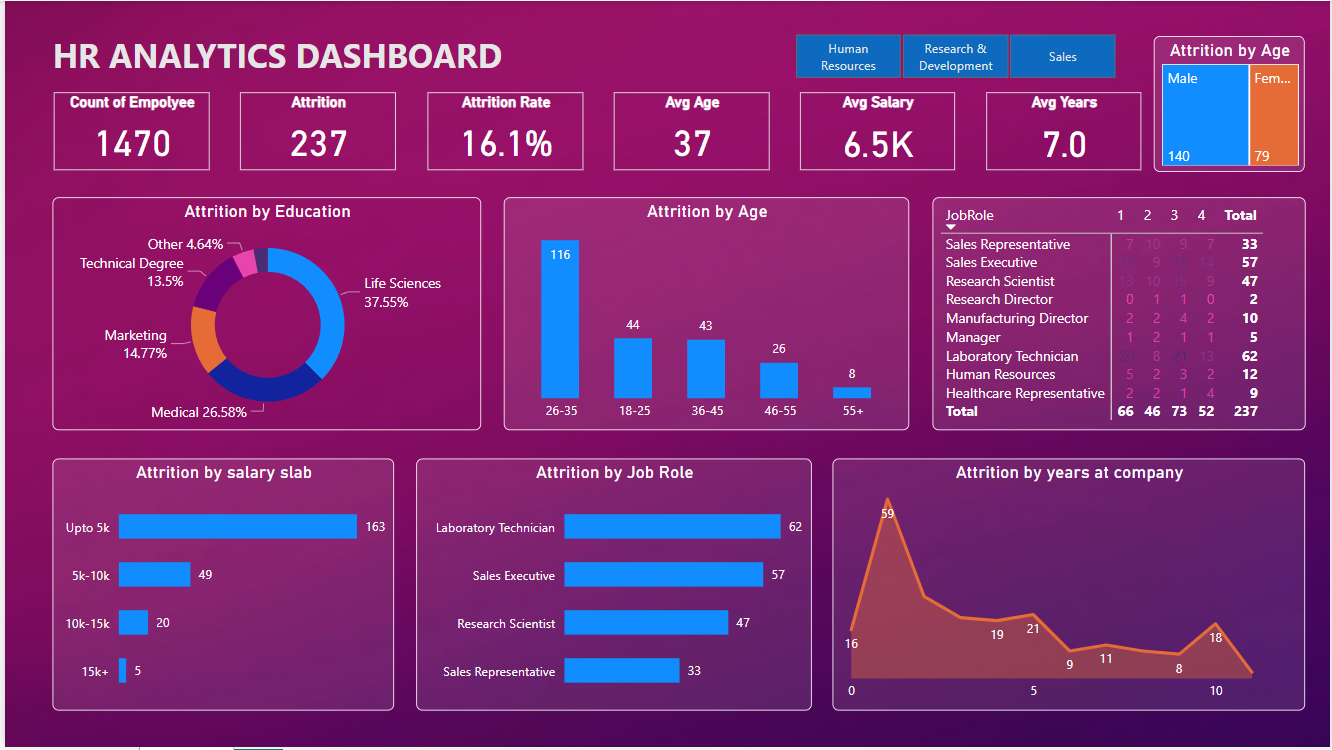

What the dashboard file says about the page in this screenshot:
{"tool":"powerbi","page":{"name":"Page 1","canvas":[1280,720],"ordinal":0},"visuals":[{"type":"card","title":"Count of Empolyee","fields":{"Values":["Count(HR_Analytics (2).EmpID)"]},"box":[47.3,87.6,150.5,75.2],"z":0},{"type":"card","title":"Attrition","fields":{"Values":["Sum(HR_Analytics (2).AttritionCount)"]},"box":[227.3,87.6,150.5,75.2],"z":1000},{"type":"card","title":"Attrition Rate","fields":{"Values":["HR_Analytics (2).AttritionRate"]},"box":[407.3,87.6,150.5,75.2],"z":2000},{"type":"card","title":"Avg Age","fields":{"Values":["Avg(HR_Analytics (2).Age)"]},"box":[587.4,87.6,150.5,75.2],"z":3000},{"type":"card","title":"Avg Salary","fields":{"Values":["Avg(HR_Analytics (2).MonthlyIncome)"]},"box":[767.4,87.5,149.5,75.4],"z":4000},{"type":"card","title":"Avg Years","fields":{"Values":["Avg(HR_Analytics (2).YearsAtCompany)"]},"box":[946.5,87.5,149.5,75.4],"z":5000},{"type":"donutChart","title":"Attrition by Education","fields":{"Category":["HR_Analytics (2).EducationField"],"Y":["Sum(HR_Analytics (2).AttritionCount)"]},"box":[46.2,189.7,413.4,224.9],"z":6000},{"type":"columnChart","title":"Attrition by Age","fields":{"Category":["HR_Analytics (2).AgeGroup"],"Y":["Sum(HR_Analytics (2).AttritionCount)"]},"box":[481.5,189.7,391.5,224.9],"z":7000},{"type":"pivotTable","fields":{"Rows":["HR_Analytics (2).JobRole"],"Columns":["HR_Analytics (2).JobSatisfaction"],"Values":["Sum(HR_Analytics (2).AttritionCount)"]},"box":[894.8,189.7,359.9,224.9],"z":8000},{"type":"clusteredBarChart","title":"Attrition by salary slab","fields":{"Category":["HR_Analytics (2).SalarySlab"],"Y":["Sum(HR_Analytics (2).AttritionCount)"]},"box":[46.2,441.3,329.5,243.2],"z":9000},{"type":"clusteredBarChart","title":"Attrition by Job Role","fields":{"Category":["HR_Analytics (2).JobRole"],"Y":["Sum(HR_Analytics (2).AttritionCount)"]},"box":[396.4,441.3,381.8,243.2],"z":10000},{"type":"stackedAreaChart","title":"Attrition by years at company","fields":{"Category":["HR_Analytics (2).YearsAtCompany"],"Y":["Sum(HR_Analytics (2).AttritionCount)"]},"box":[798.8,441.3,455.9,243.2],"z":11000},{"type":"treemap","title":"Attrition by Age","fields":{"Group":["HR_Analytics (2).Gender"],"Values":["Sum(HR_Analytics (2).AttritionCount)"]},"box":[1108.8,34,145.9,131.3],"z":12000},{"type":"slicer","fields":{"Values":["HR_Analytics (2).Department"]},"box":[736.8,25.5,358.7,54.7],"z":13000},{"type":"textbox","box":[41.3,25.5,579.9,55.9],"z":13001}]}

Visuals, with their boxes in screenshot pixels (x1, y1, x2, y2), scaled from the page's 1280x720 canvas onto the 1332x750 screenshot:
"Count of Empolyee" card: bbox=(49, 91, 206, 170)
"Attrition" card: bbox=(237, 91, 393, 170)
"Attrition Rate" card: bbox=(424, 91, 580, 170)
"Avg Age" card: bbox=(611, 91, 768, 170)
"Avg Salary" card: bbox=(799, 91, 954, 170)
"Avg Years" card: bbox=(985, 91, 1141, 170)
"Attrition by Education" donutChart: bbox=(48, 198, 478, 432)
"Attrition by Age" columnChart: bbox=(501, 198, 908, 432)
pivotTable - HR_Analytics (2).JobRole x HR_Analytics (2).JobSatisfaction: bbox=(931, 198, 1306, 432)
"Attrition by salary slab" clusteredBarChart: bbox=(48, 460, 391, 713)
"Attrition by Job Role" clusteredBarChart: bbox=(413, 460, 810, 713)
"Attrition by years at company" stackedAreaChart: bbox=(831, 460, 1306, 713)
"Attrition by Age" treemap: bbox=(1154, 35, 1306, 172)
slicer - HR_Analytics (2).Department: bbox=(767, 27, 1140, 84)
textbox: bbox=(43, 27, 646, 85)
